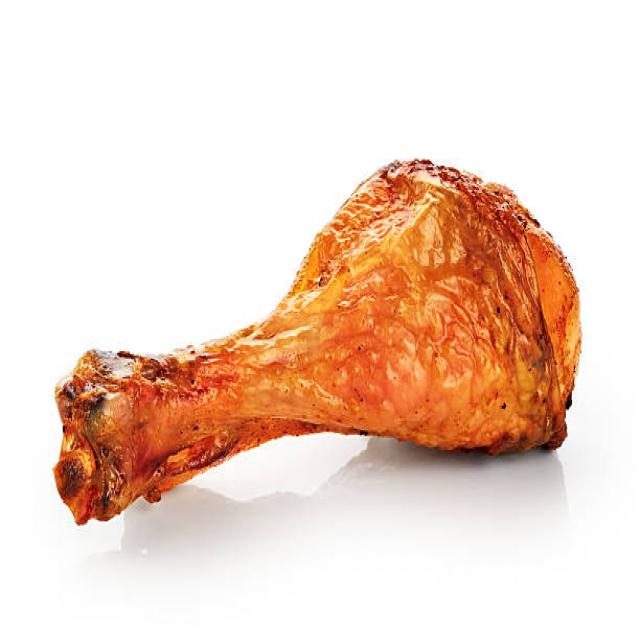Chicken: (52, 146, 584, 551)
